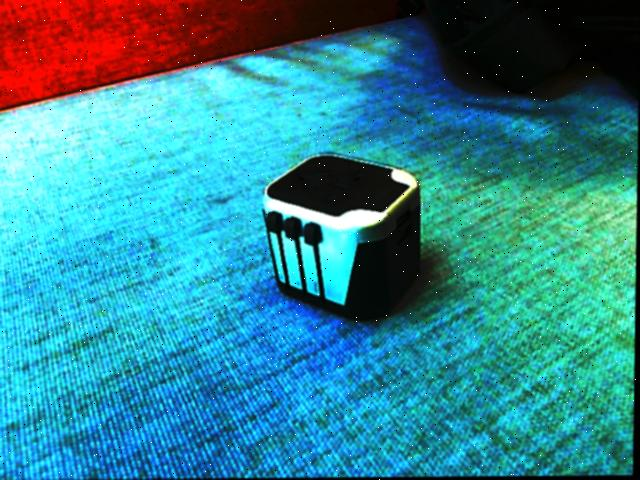adapter: (260, 153, 423, 321)
